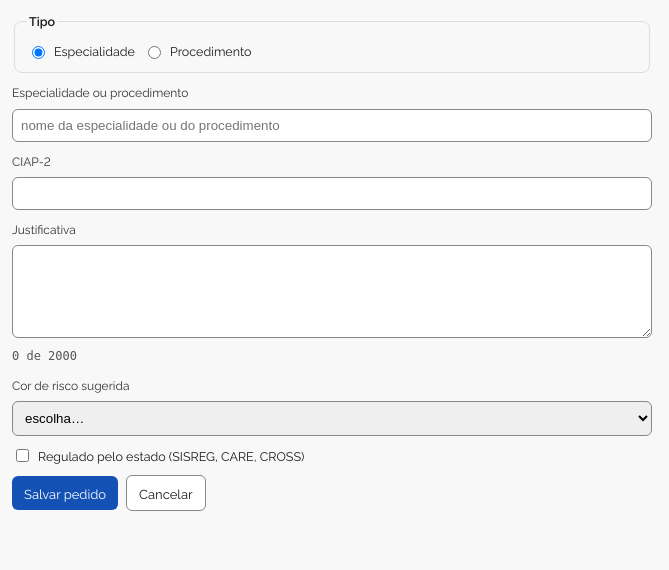
Test: RequestForm › recusa diagnosis_required do api fica no formulário com o texto digitado
Click the radio button labelled "Procedimento".
click(154, 53)  # box [148,46,161,59]
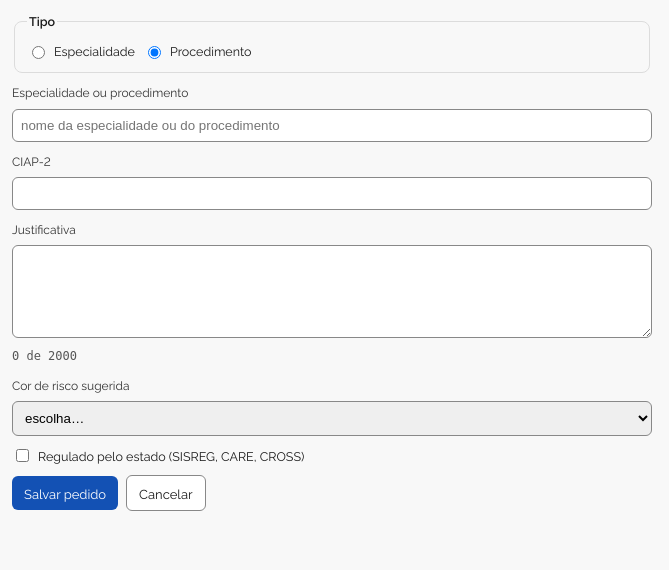
Type "eco" into the field labelled "Especialidade ou procedimento".
click(332, 125); type("eco")  # box [12,109,652,142]
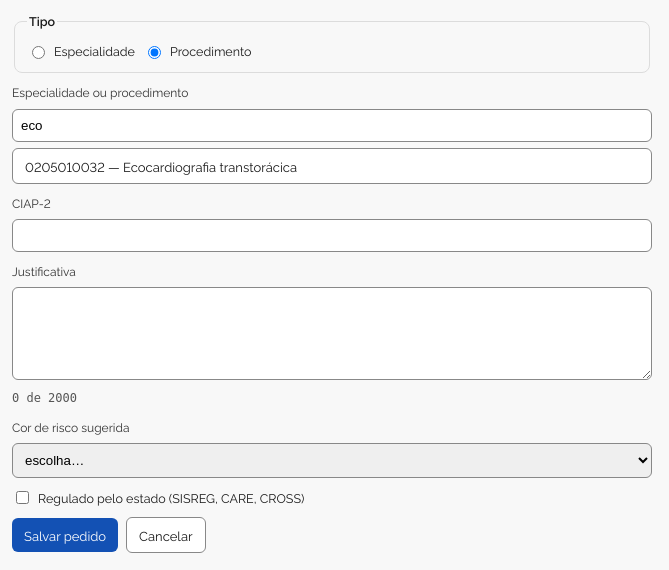
Click the button "0205010032 — Ecocardiografia transtorácica".
click(161, 166)  # box [12,148,652,184]
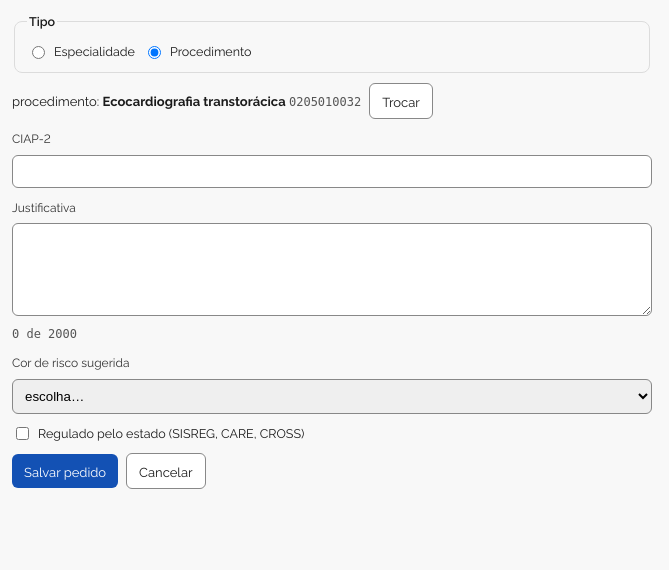
Type "K86" into the field labelled "CIAP-2".
click(332, 171); type("K86")  # box [12,155,652,188]
Type "Dor torácica aos esforços há 3 meses, teste ergométrico alterado." into the text box labelled "Justificativa".
click(332, 270); type("Dor torácica aos esforços há 3 meses, teste ergométrico alterado.")  # box [12,223,652,316]
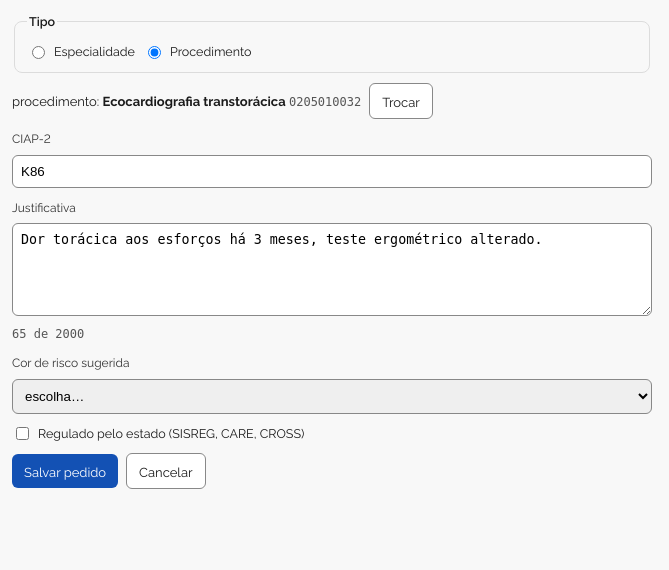
Select "azul" in the dropdown labelled "Cor de risco sugerida" at (332, 396), box [12,379,652,414]
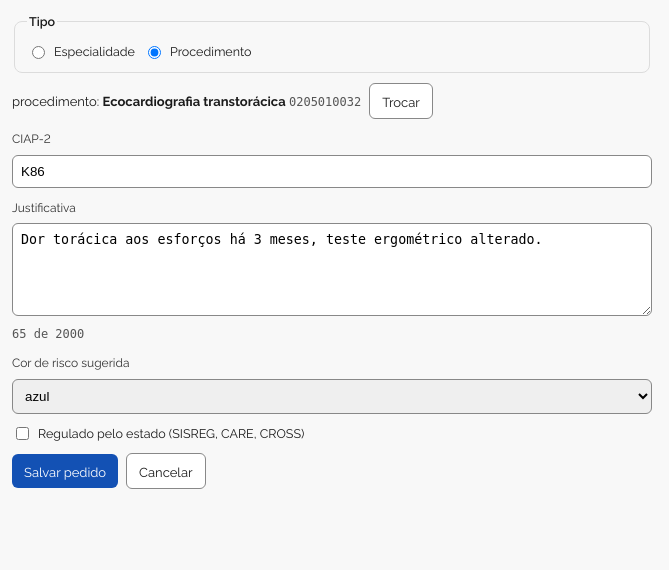
Click the button "Salvar pedido".
click(65, 471)  # box [12,454,118,488]
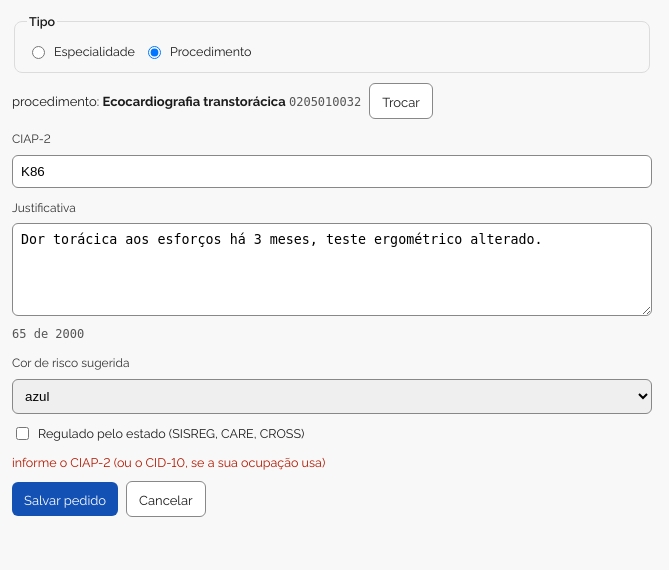
Now the message reads "informe o CIAP-2 (ou o CID-10, se a sua ocupação usa)", box [12,453,325,470]
